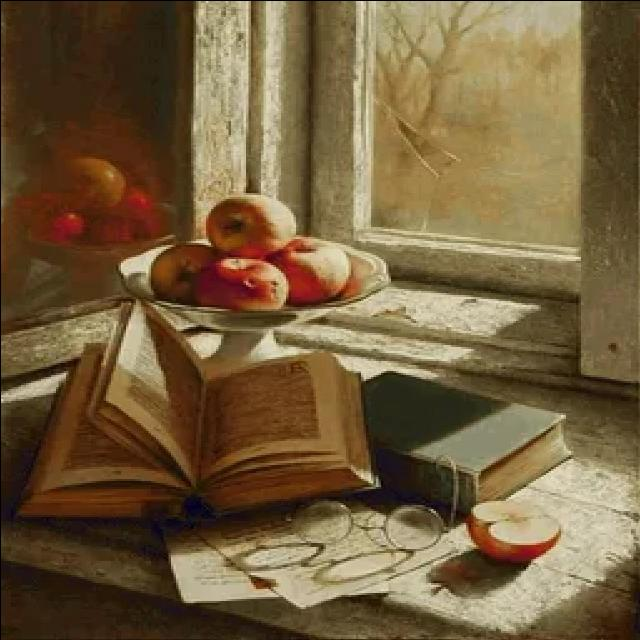book: (0, 282, 393, 532)
